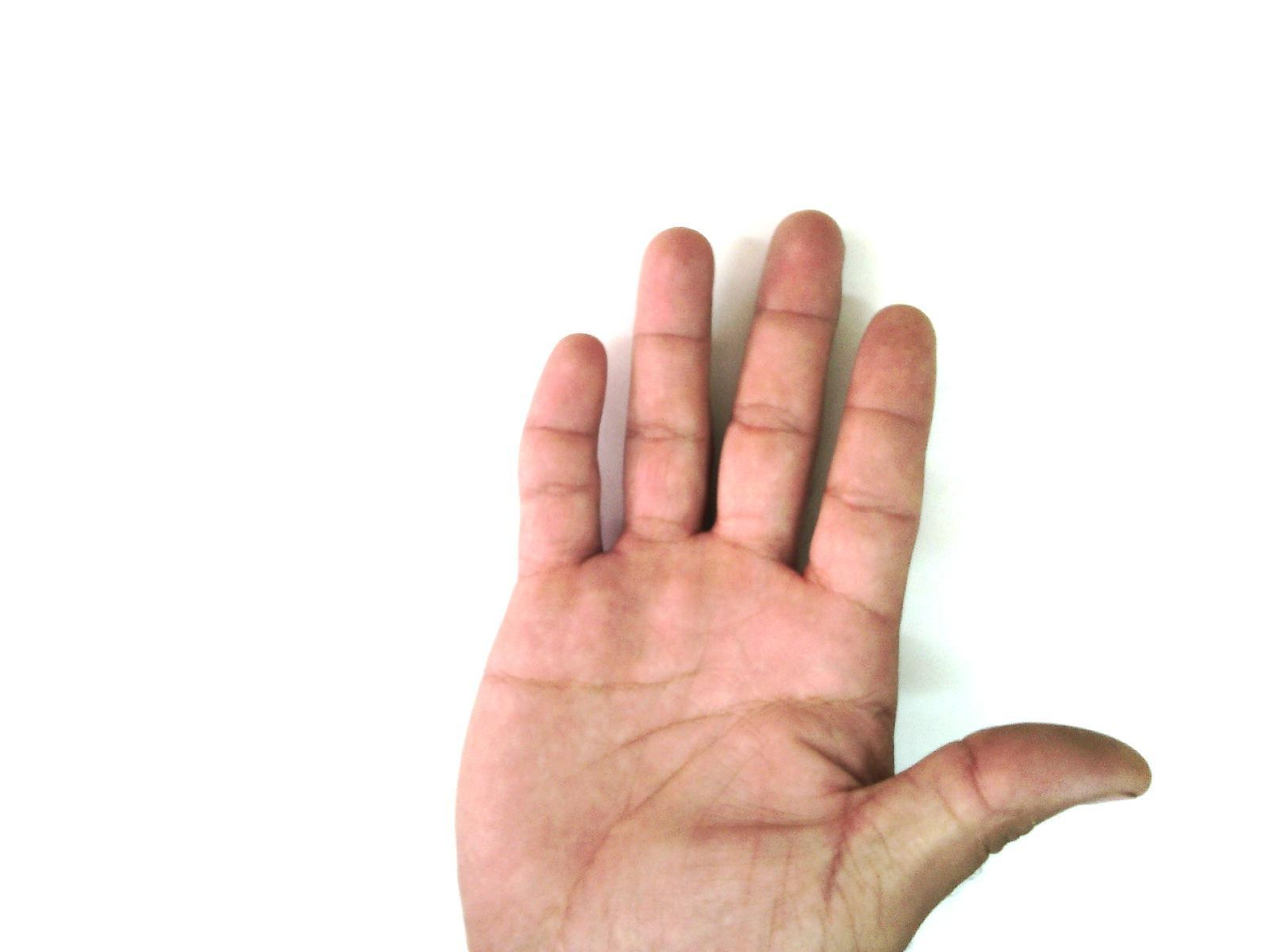open_palm: (450, 209, 1154, 951)
